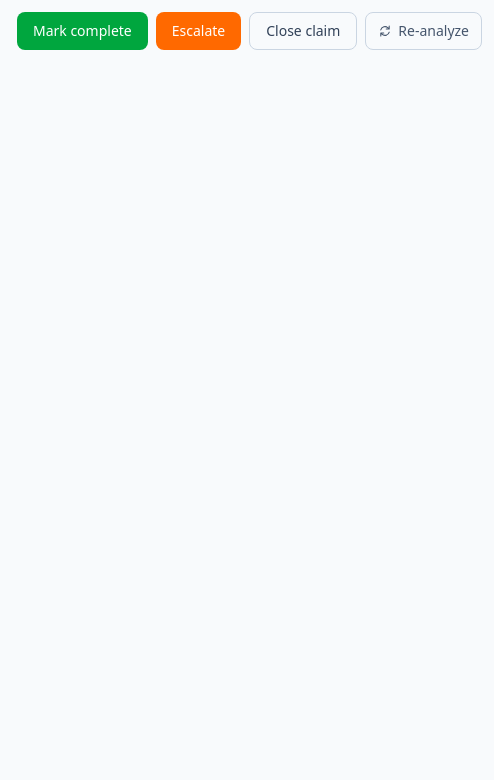
Test: la situación del caso › el detalle en en-US avisa un cambio que responde 200 con «Status updated.»
This screenshot has width=494, height=780.
Click the button with test id "action-marcar-completo" at (82, 31), box [17,12,148,50]
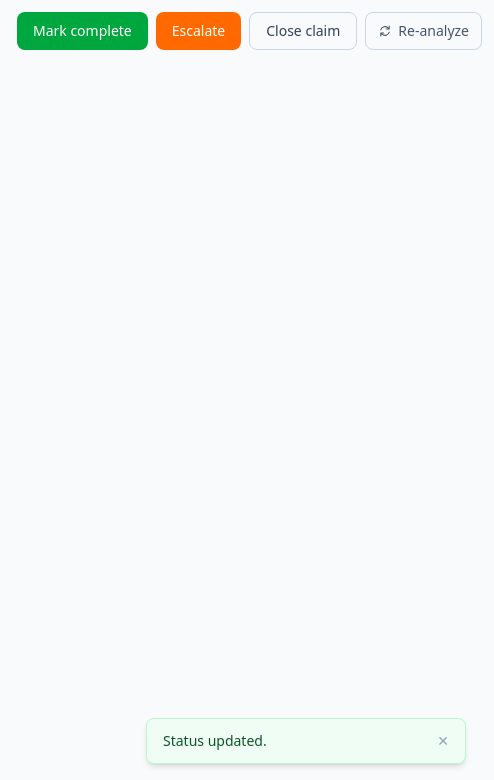
Expected: the text "Status updated." is shown, [163,731,267,751]
